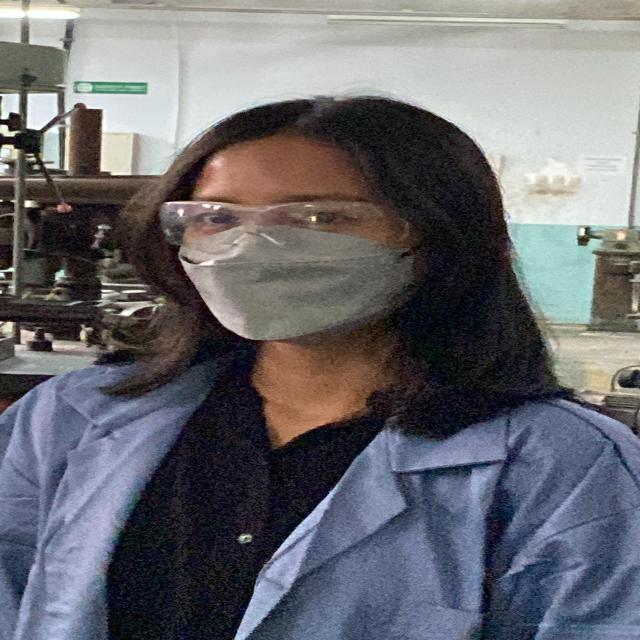glasses: (150, 196, 424, 256)
